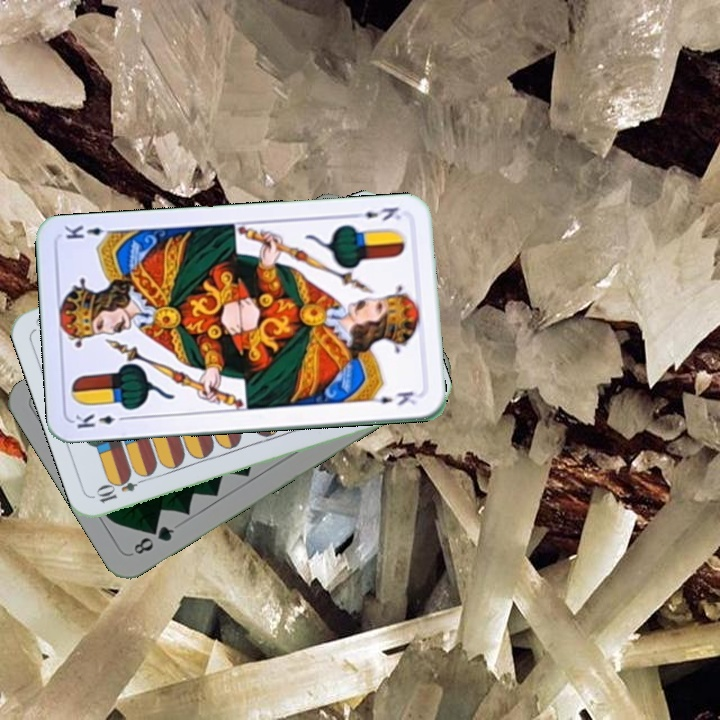E10: (92, 472, 150, 506)
EK: (71, 409, 130, 431), (349, 203, 408, 224)
G8: (127, 521, 177, 558)
